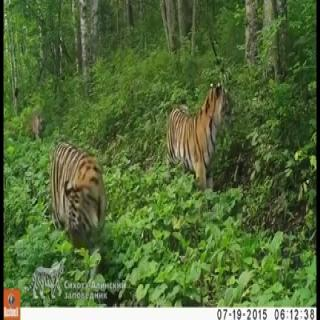Tiger: (164, 75, 232, 188), (44, 136, 107, 246)
